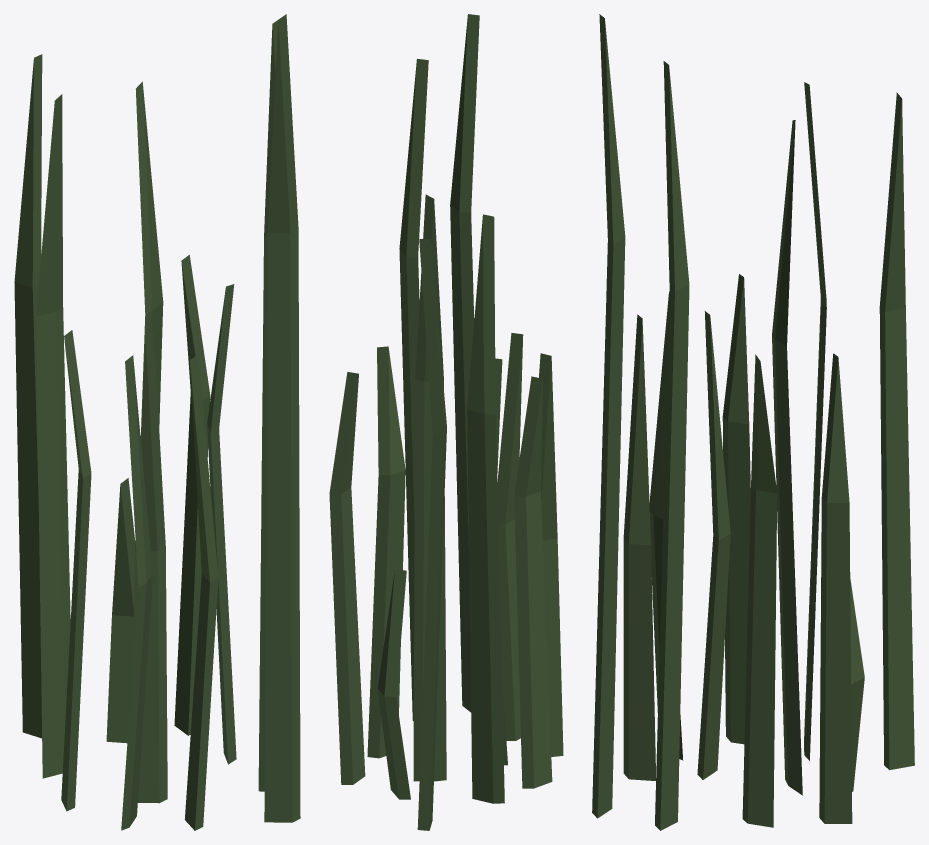
File: Grass_2.gltf
3 renders of one model, left to right at view 1: azimuth 30°, elevation 25°; view 2: azimuth 150°, elevation 25°; view 3: azimuth 270°, elevation 25°, orthographic. The views are drawn at different scales.
Visible parts, largest first — view 1: Grass_2; view 2: Grass_2; view 3: Grass_2.
Boxes of the visible parts, x1,y1,x2,y2 form: Grass_2: (14, 14, 300, 830); Grass_2: (329, 14, 563, 830); Grass_2: (592, 14, 914, 830).
Bounding box in the file's own units: 0.3162 × 1.2 × 0.4417.
